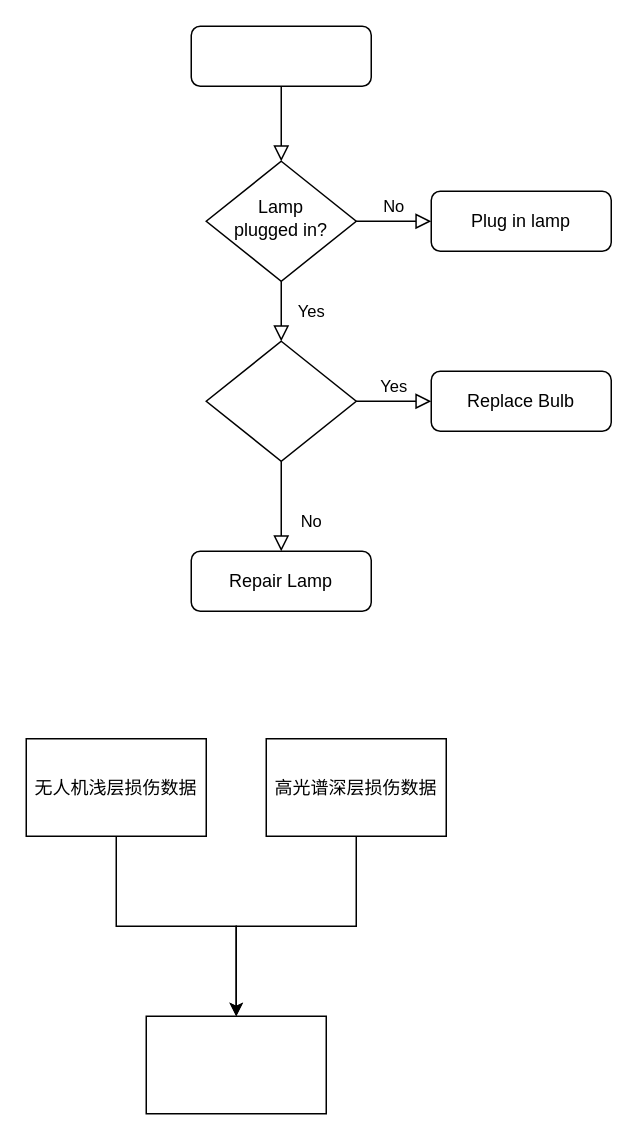
Some shapes in this 638 by 1140 pixel diagram are drawn without their labels. Each missing label, with the centre of its shape:
Bulb burned out?: the point at 280,400
CFD模拟或风动实验: the point at 235,1064
Lamp doesn't work: the point at 280,55
